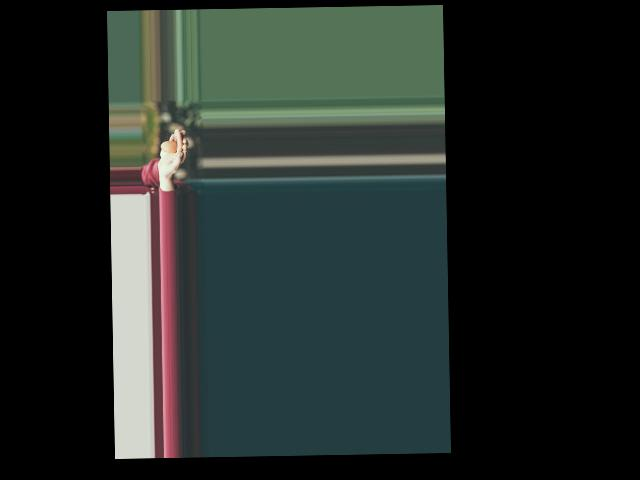egg: (161, 141, 177, 153)
